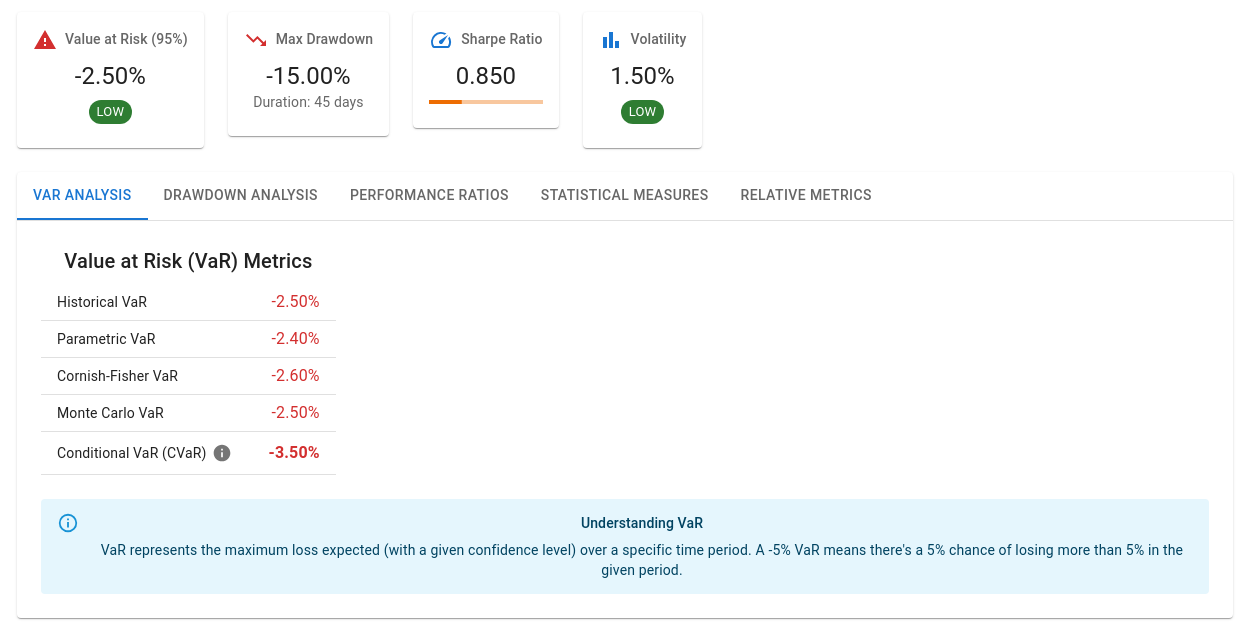
Test case: RiskAnalysis › displays statistical measures
Step 1. Click the tab "Statistical Measures" → (625, 196), box [525, 172, 724, 220]
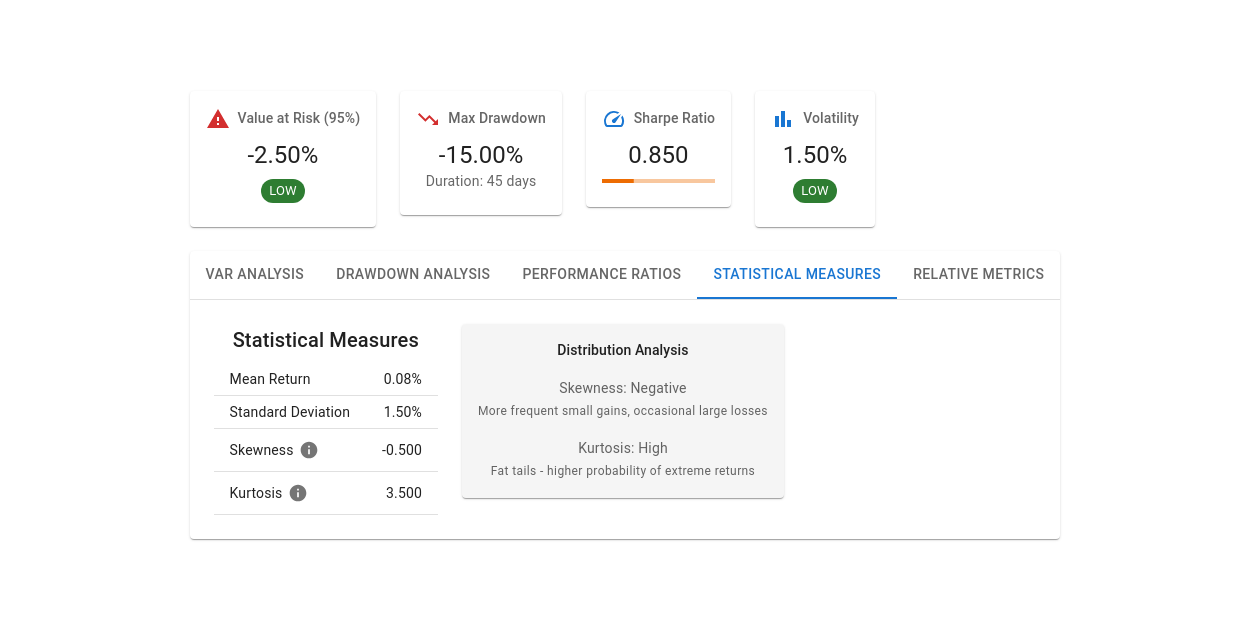
Result: the text "Mean Return" is shown at [214, 363, 366, 396]
Result: the text "Standard Deviation" is shown at [214, 396, 366, 428]
Result: the text "Skewness" is shown at [230, 435, 324, 465]
